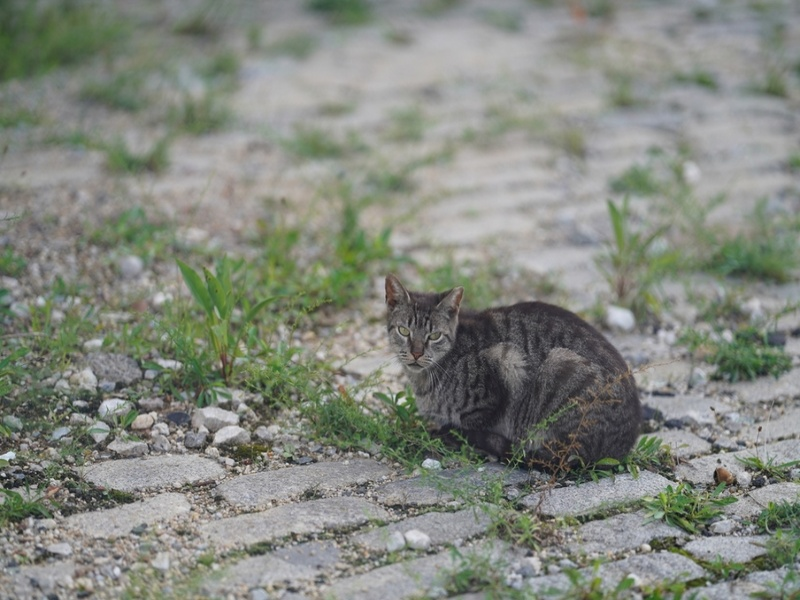cat: (380, 273, 643, 483)
